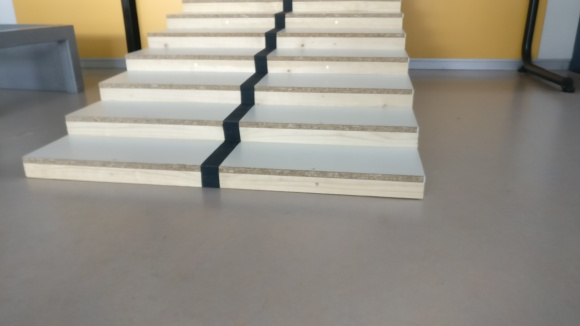stairs: (20, 1, 429, 204)
